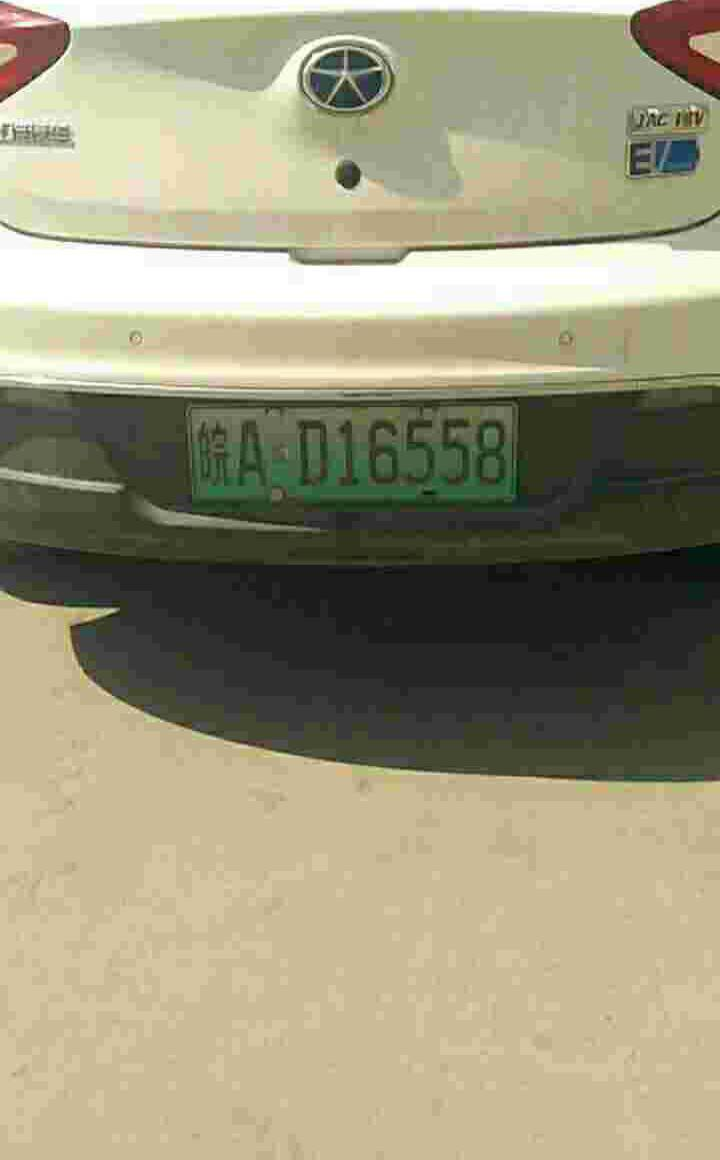car_id: (190, 407, 514, 500)
